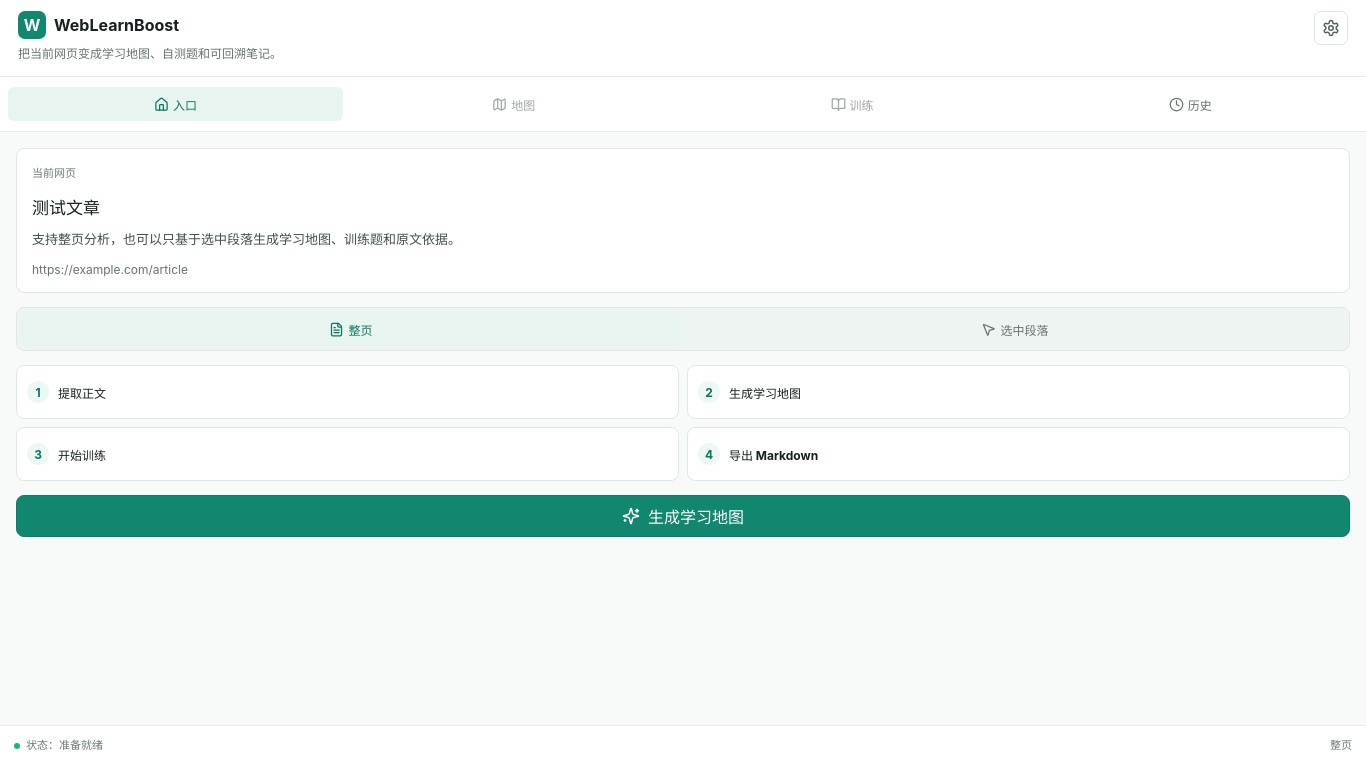
Scenario: AppView learning flow › can navigate quiz questions with previous and next buttons
Click the button "生成学习地图".
click(683, 516)  # box [16, 496, 1350, 538]
(page scrolled)
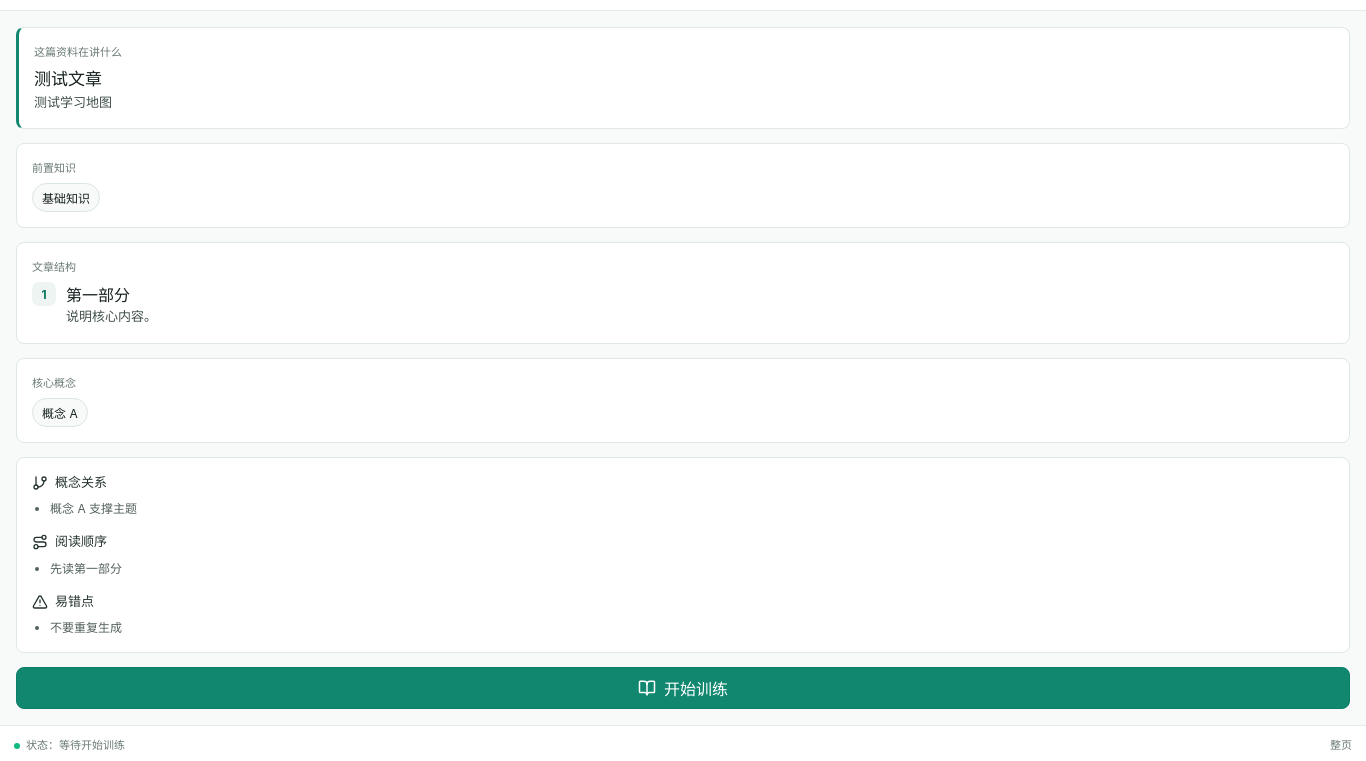
Click the button "开始训练".
click(683, 688)  # box [16, 667, 1350, 709]
(page scrolled)
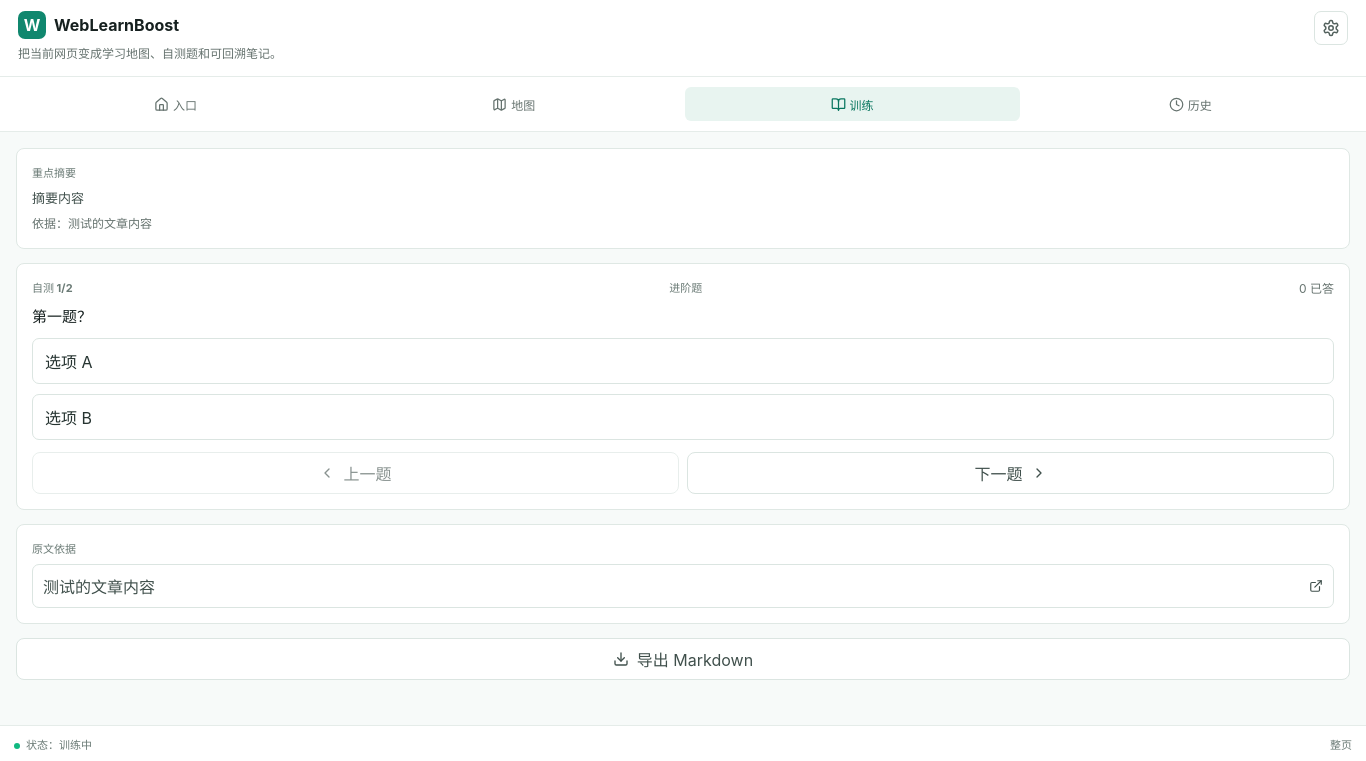
Click the button "下一题".
click(1010, 473)  # box [687, 452, 1334, 494]
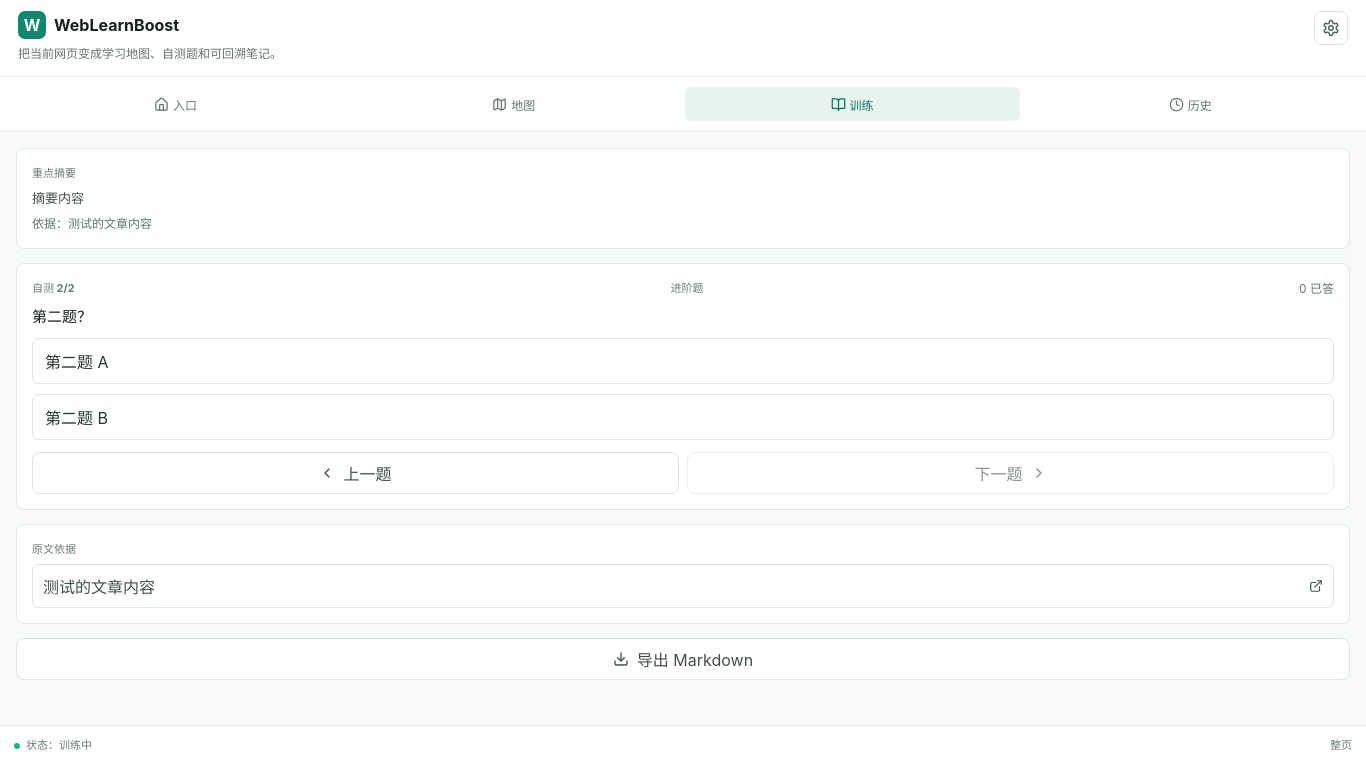
Click the button "上一题".
click(356, 473)  # box [32, 452, 679, 494]
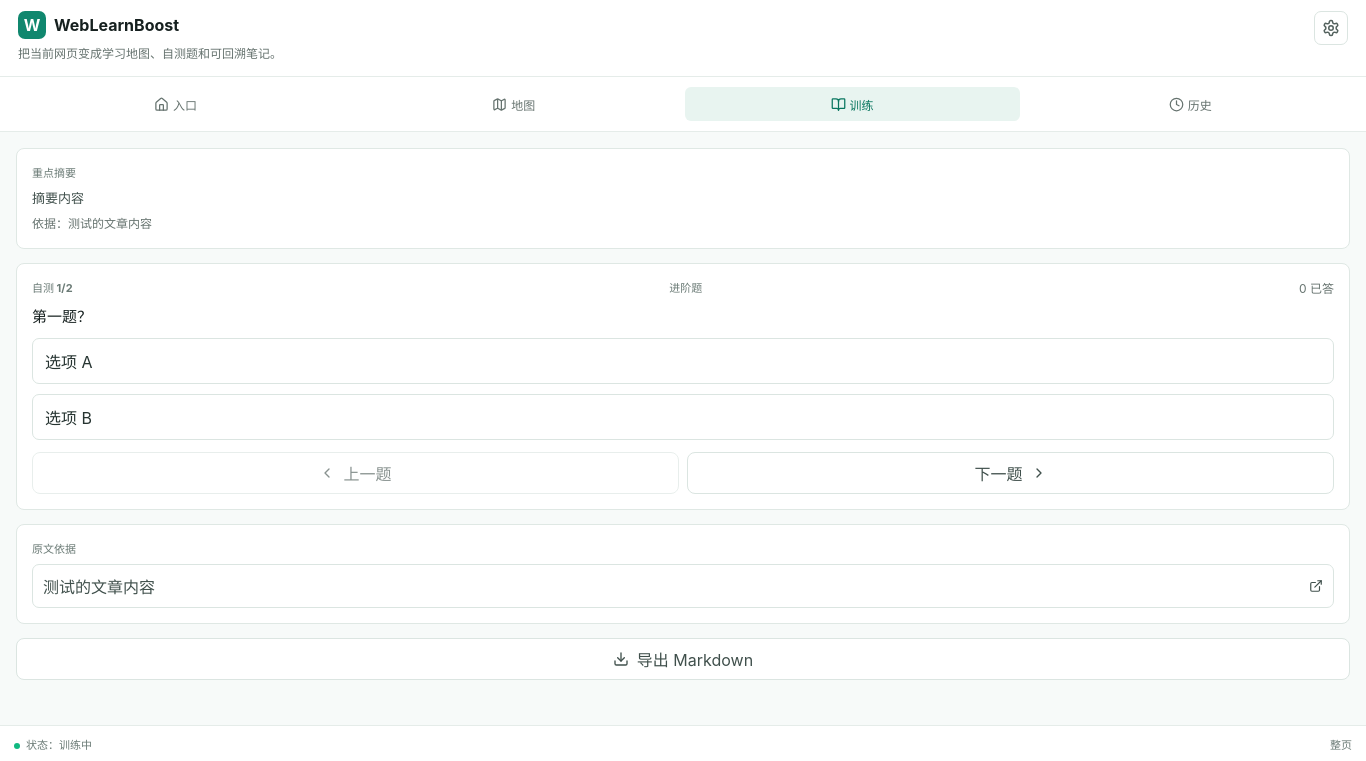
Now the heading "第一题？" is shown, box [32, 307, 92, 326]
